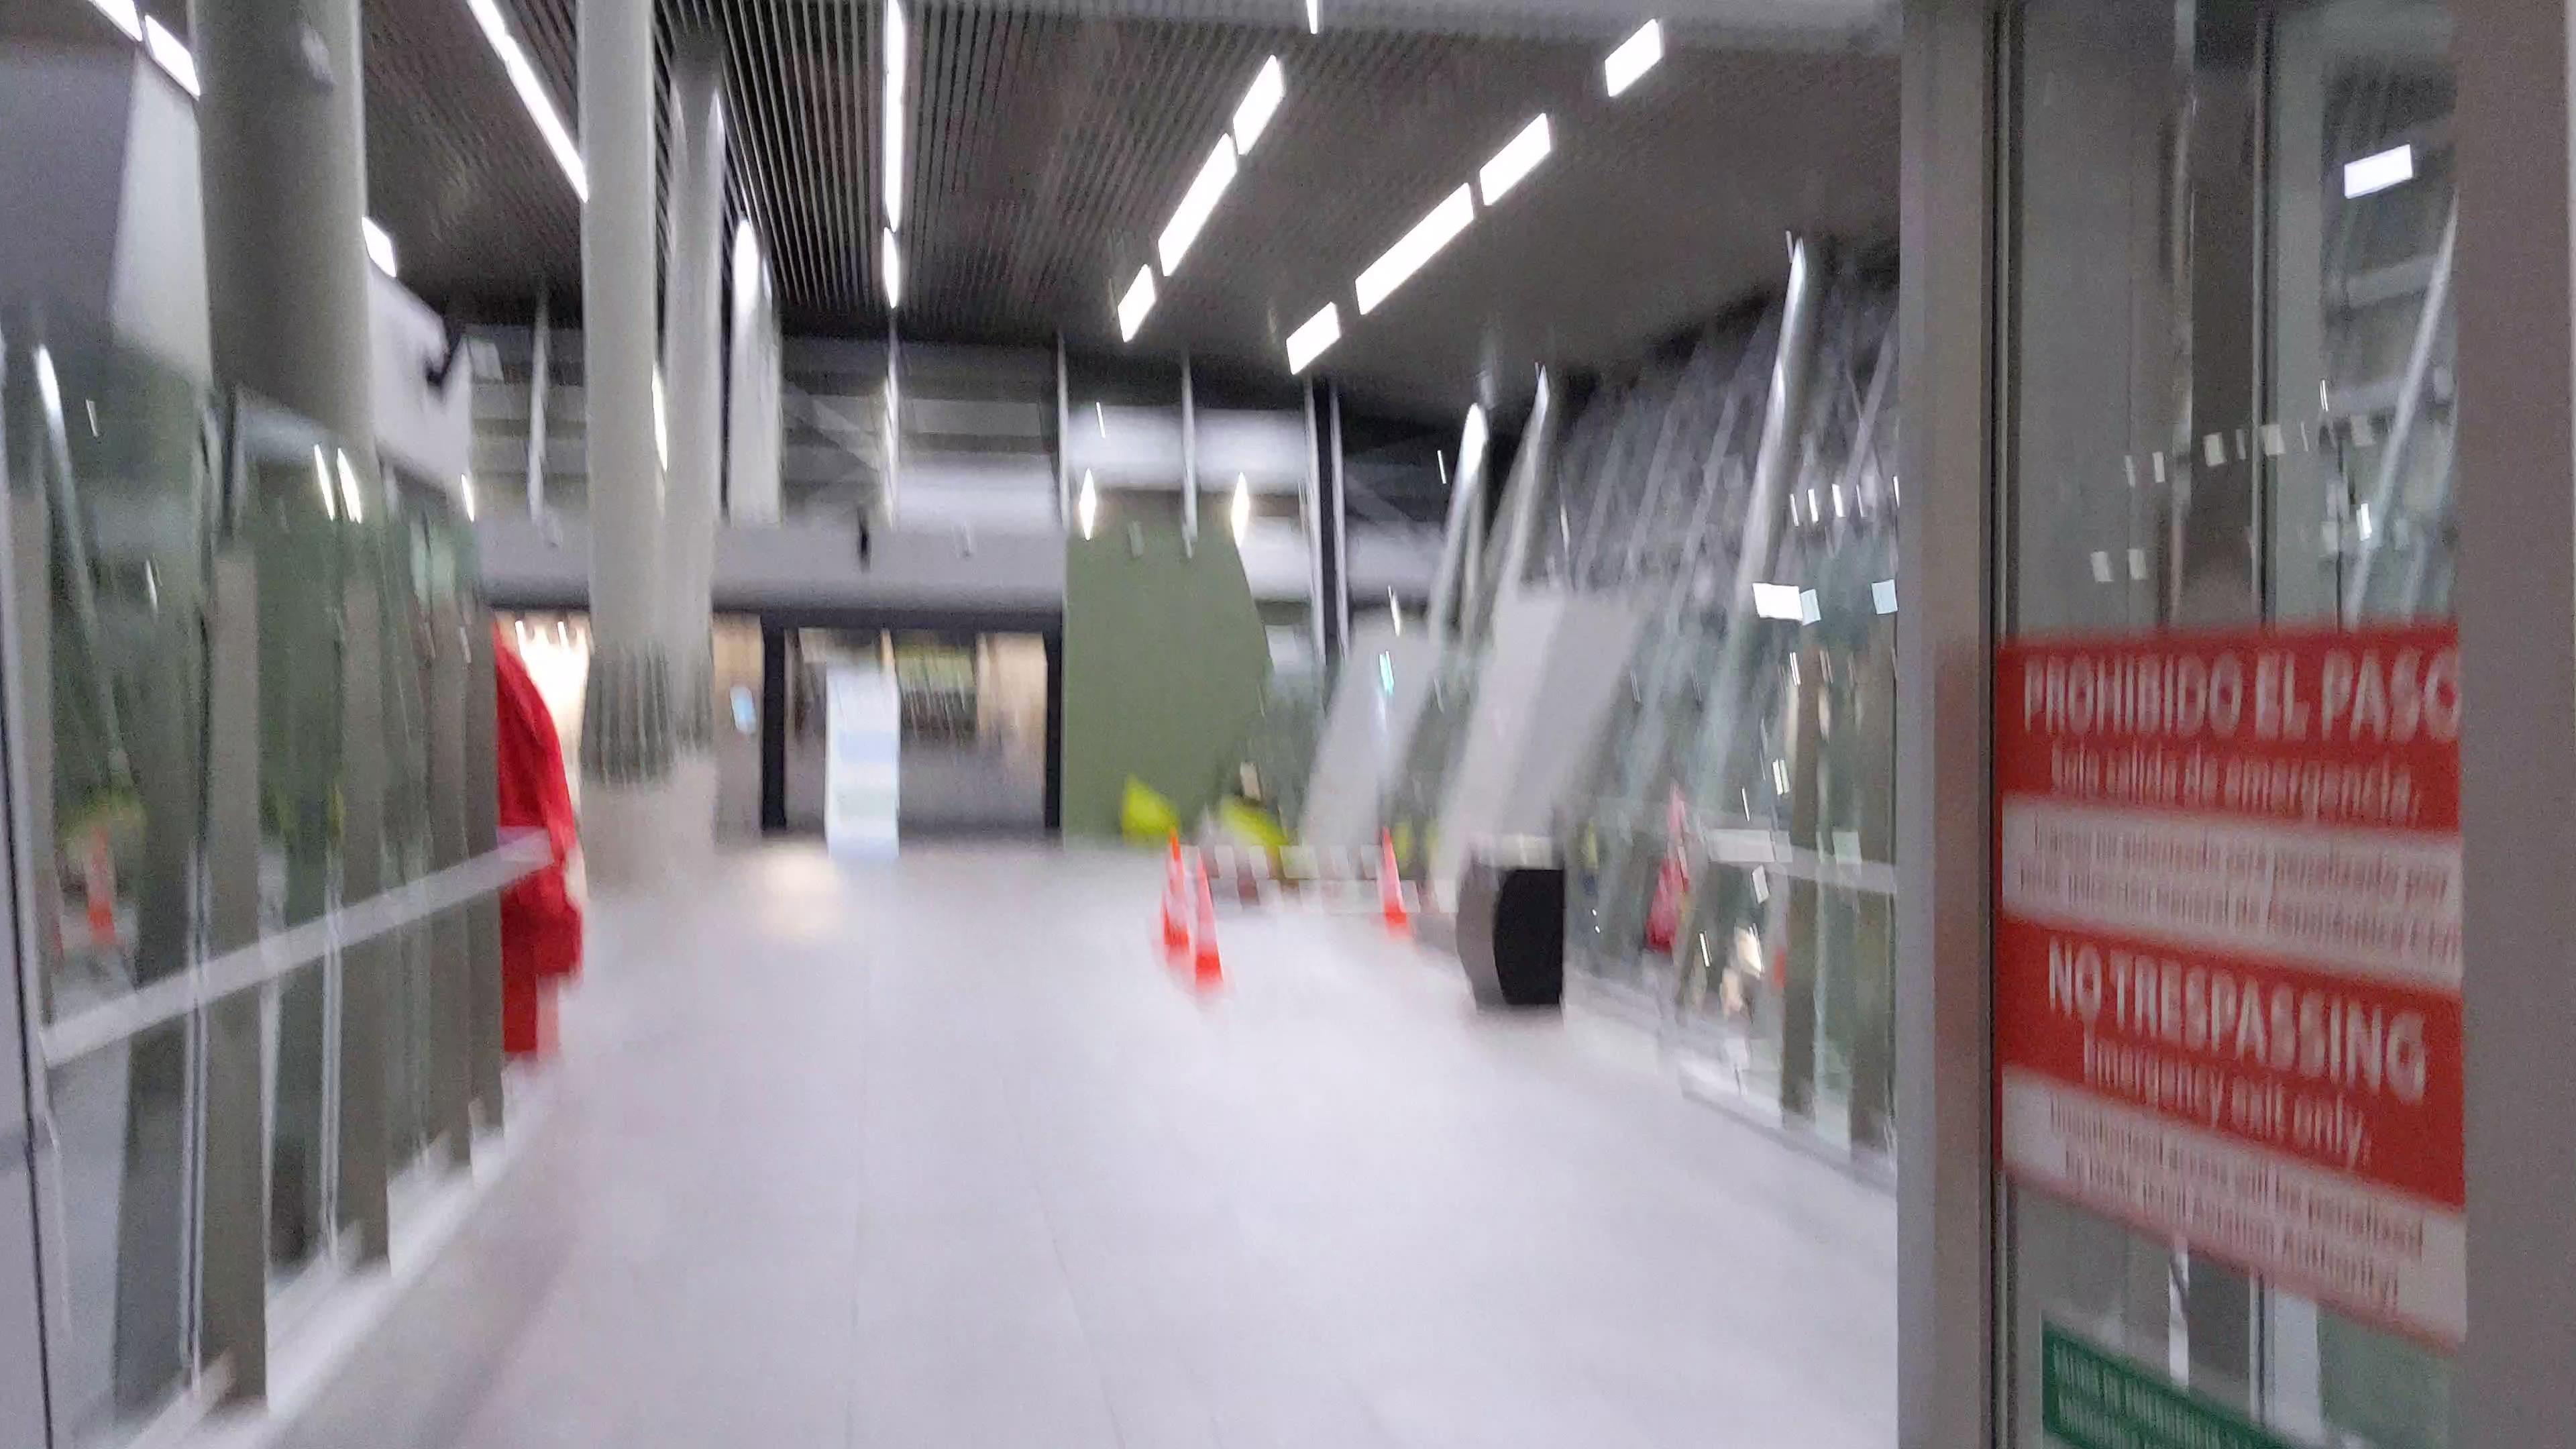no trespassing: (1987, 626, 2475, 1359)
